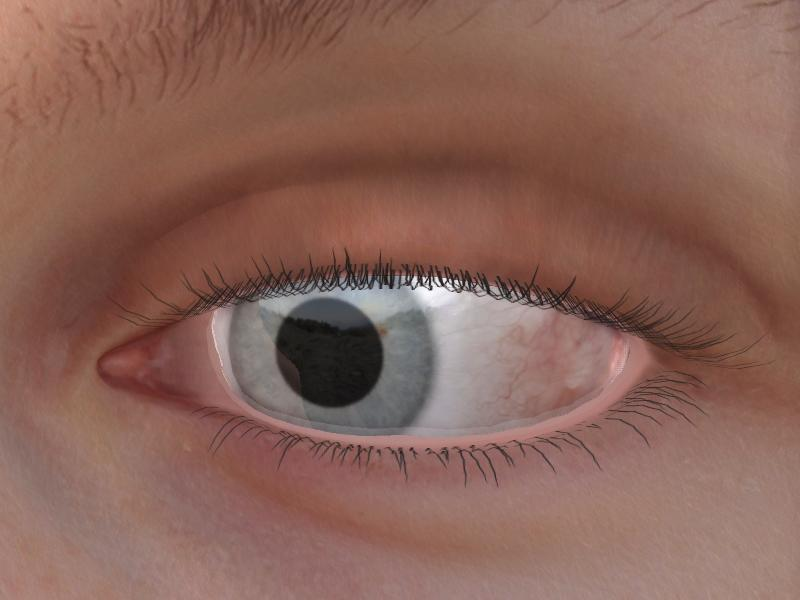eye: (229, 276, 440, 438)
